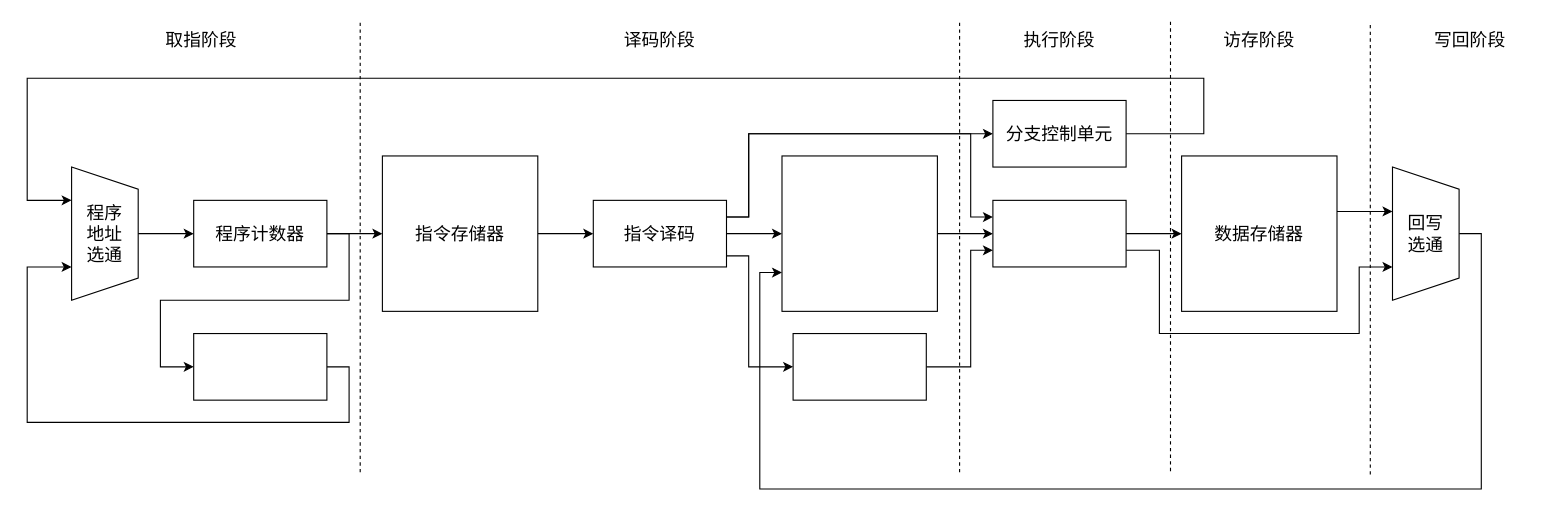
Image size: 1556x517. Some labels were removed from this diagram. Here are the shapes that lost their labels. From the top down, the centre of each, then its label:
the point at 859,233: 寄存器堆
the point at 1059,233: 算术逻辑单元
the point at 260,366: 程序地址递增器
the point at 859,366: 立即数生成
